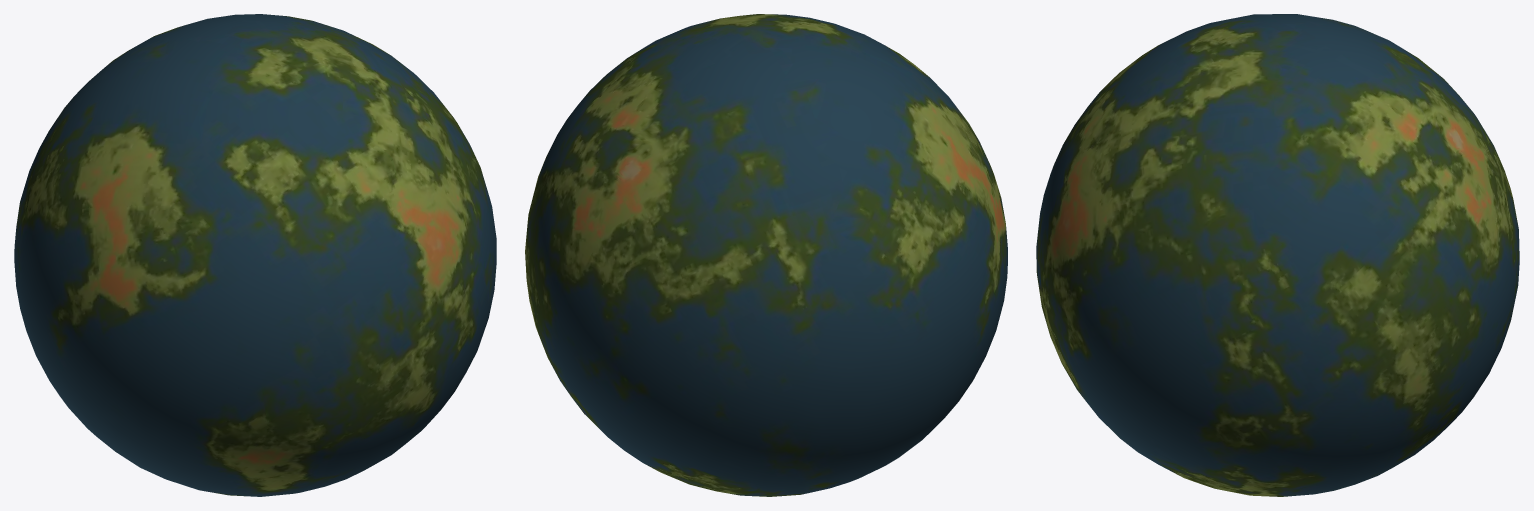
File: planet-transformed.glb
3 views of the same model, side by side, from view 1: azimuth 30°, elevation 25°; view 2: azimuth 150°, elevation 25°; view 3: azimuth 270°, elevation 25° (orthographic).
Visible parts, largest first — view 1: Planet - LO; view 2: Planet - LO; view 3: Planet - LO.
Boxes of the visible parts, left/top/right/bottom form: Planet - LO: left=14, top=14, right=496, bottom=496; Planet - LO: left=525, top=14, right=1007, bottom=496; Planet - LO: left=1036, top=14, right=1519, bottom=496.
Bounding box in the file's own units: 2 × 2 × 2.
1 material, 1 textured.
